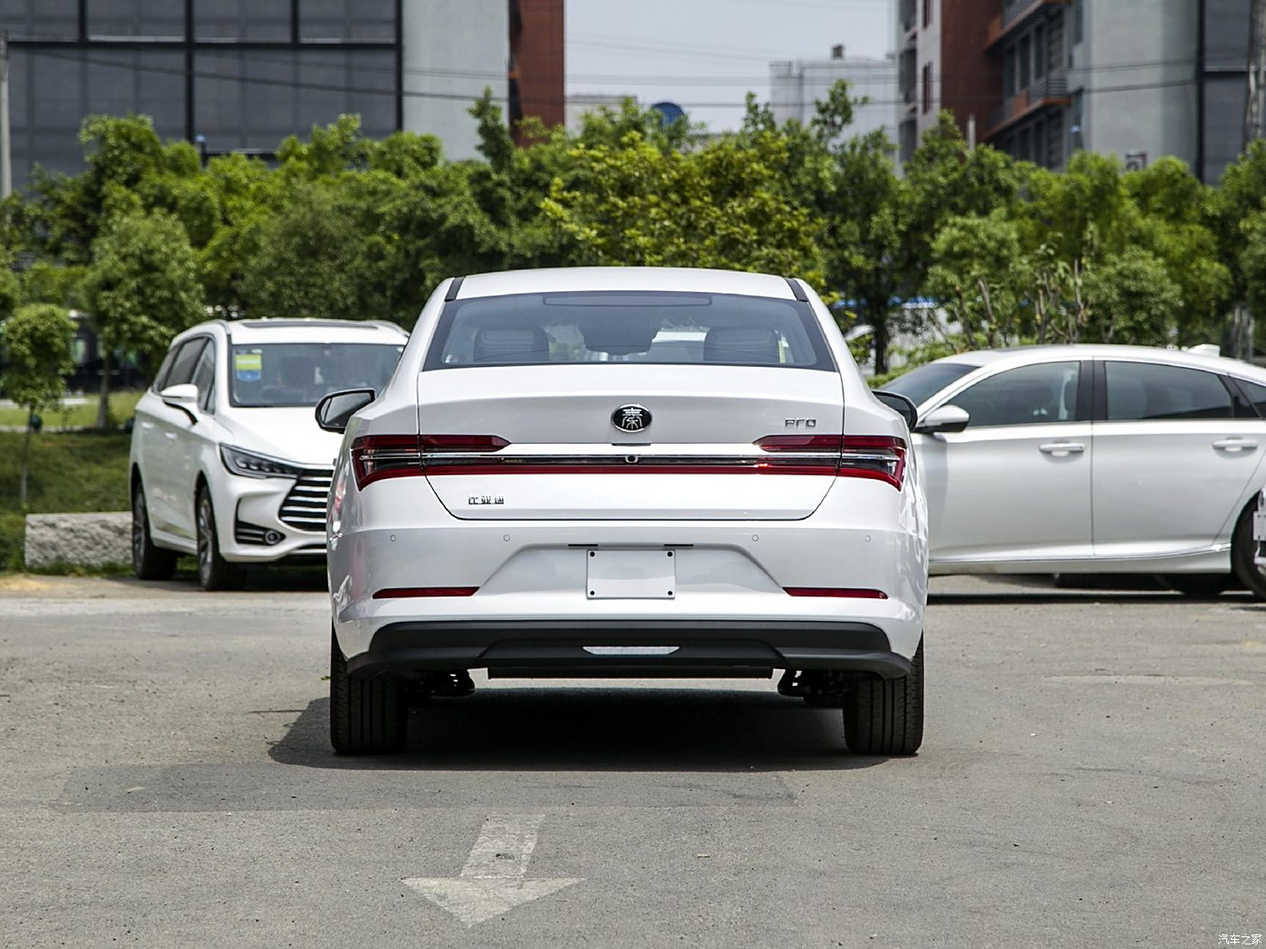BYD Qin: (611, 404, 652, 432)
